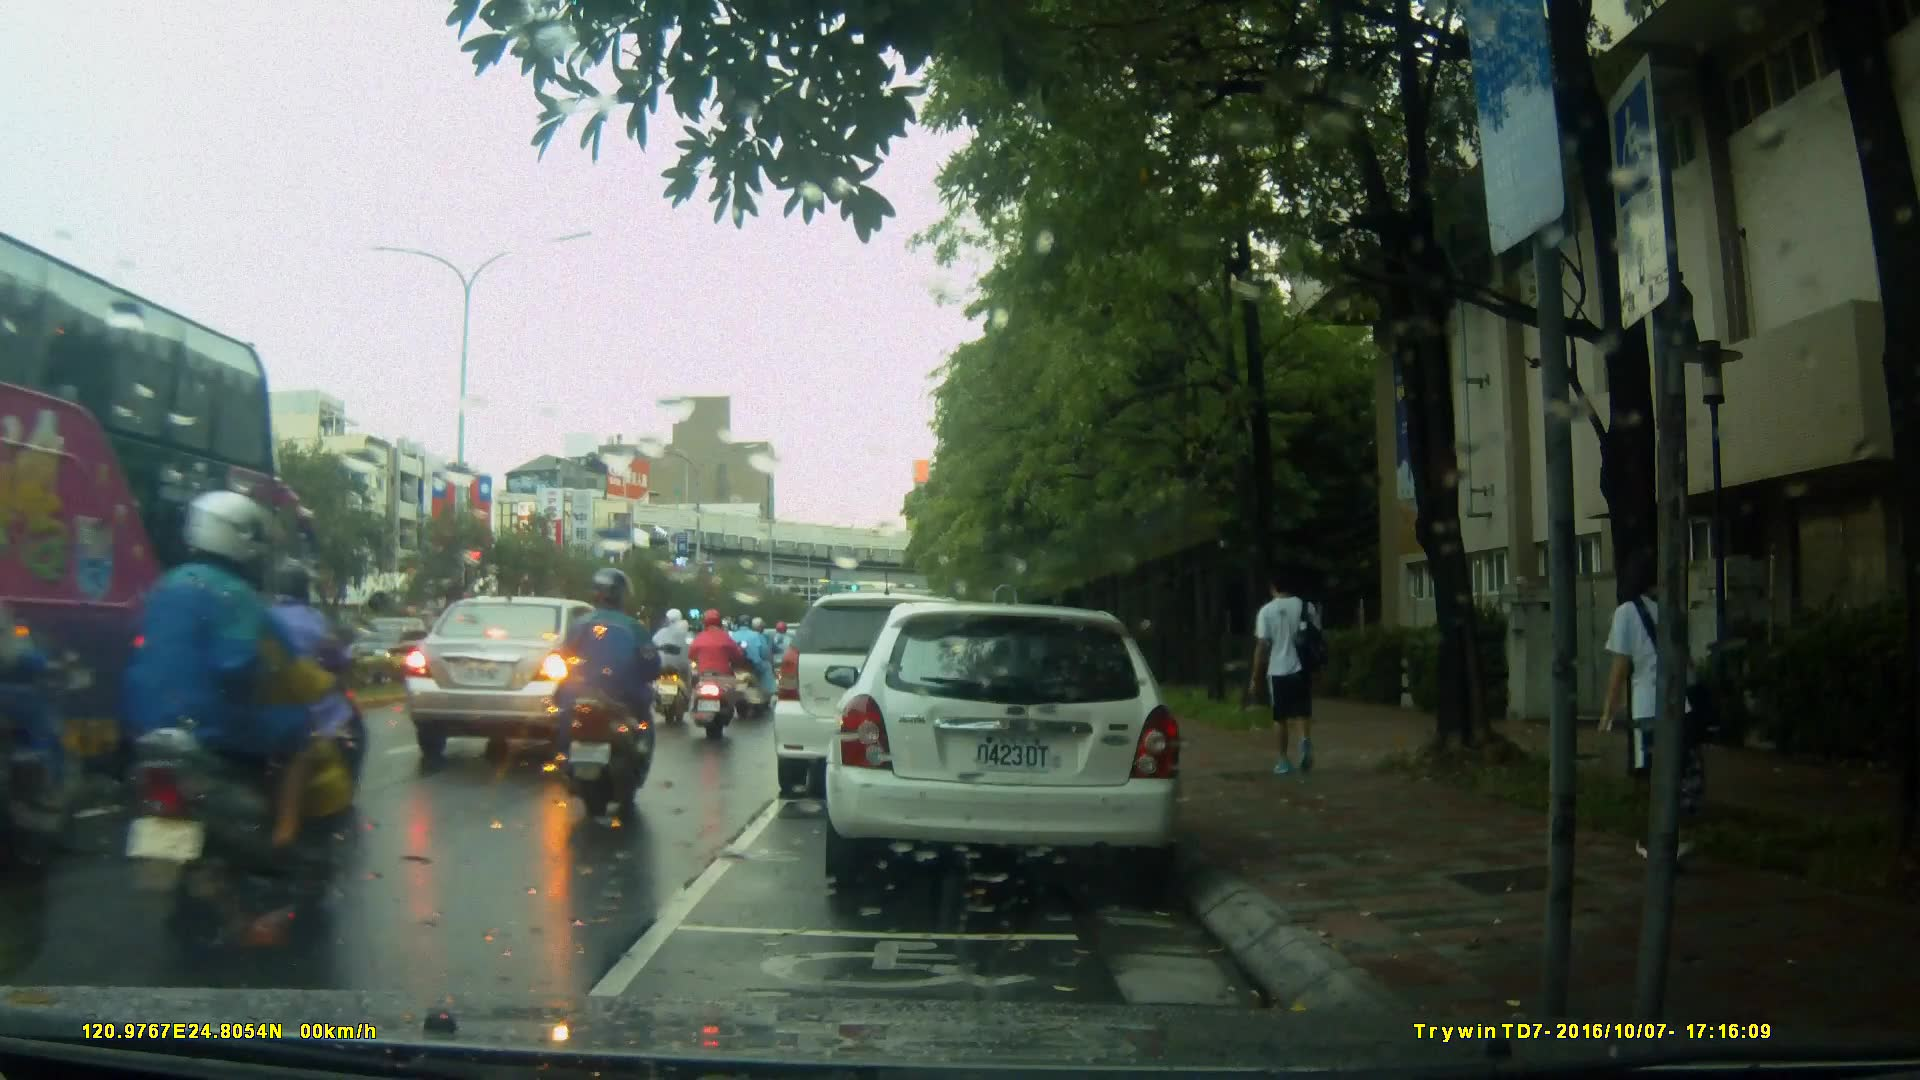pedestrian: (1588, 537, 1708, 878), (214, 553, 367, 803), (1248, 561, 1344, 796)
rider: (126, 492, 323, 966), (546, 566, 665, 817), (1, 514, 81, 875), (685, 605, 746, 742), (644, 603, 698, 727), (727, 612, 772, 712), (763, 618, 799, 709)
vehicle: (10, 217, 298, 902), (811, 604, 1188, 882), (774, 595, 995, 802), (406, 593, 654, 762)
